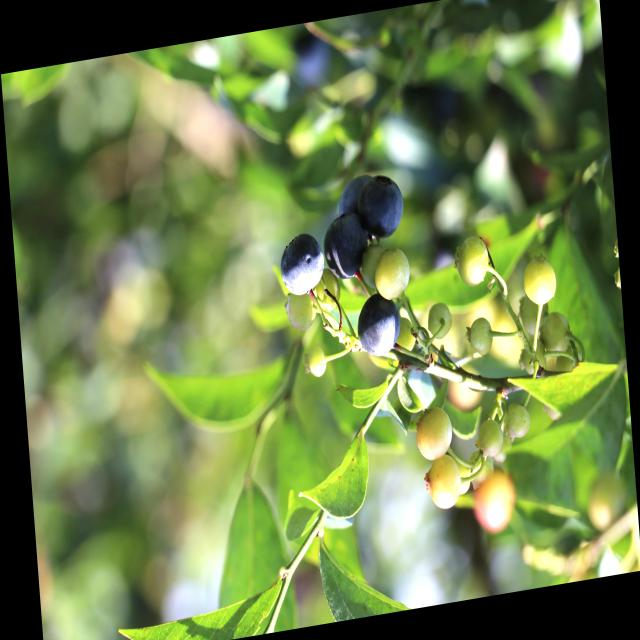blueberry: (273, 228, 330, 298), (324, 210, 372, 284), (354, 174, 408, 239), (356, 291, 402, 360)
blueberry-halfripe: (474, 468, 516, 536), (424, 452, 464, 512), (413, 406, 454, 458)
blueberry-unripe: (373, 246, 414, 305), (454, 234, 491, 289), (521, 254, 558, 308), (538, 308, 571, 357), (313, 266, 345, 315), (498, 400, 532, 445), (282, 287, 318, 328), (467, 312, 495, 358), (520, 293, 548, 336), (476, 419, 504, 458), (306, 340, 329, 382), (429, 303, 452, 341)
